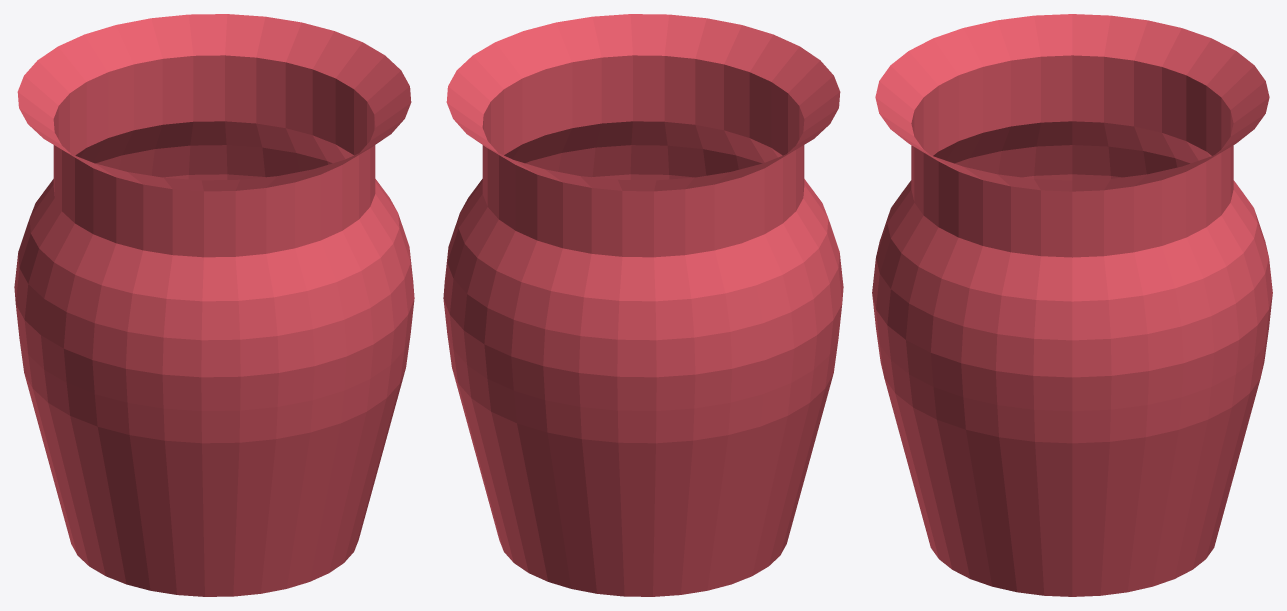
The model's file is Vase.fbx.
3 views of the same model, side by side, from view 1: azimuth 30°, elevation 25°; view 2: azimuth 150°, elevation 25°; view 3: azimuth 270°, elevation 25° (orthographic).
Visible parts, largest first — view 1: PlantPot; view 2: PlantPot; view 3: PlantPot.
Boxes of the visible parts, bbox=[...] form: PlantPot: bbox=[14, 14, 414, 596]; PlantPot: bbox=[443, 14, 843, 596]; PlantPot: bbox=[872, 14, 1272, 596].
Bounding box in the file's own units: 113 × 136 × 113.
